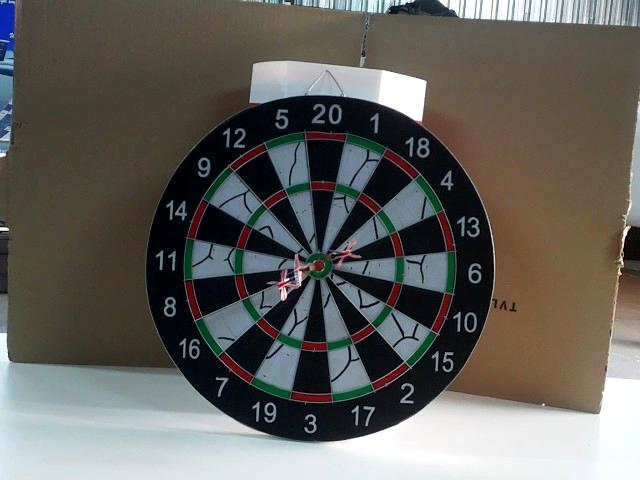bullseye: (312, 254, 331, 279)
